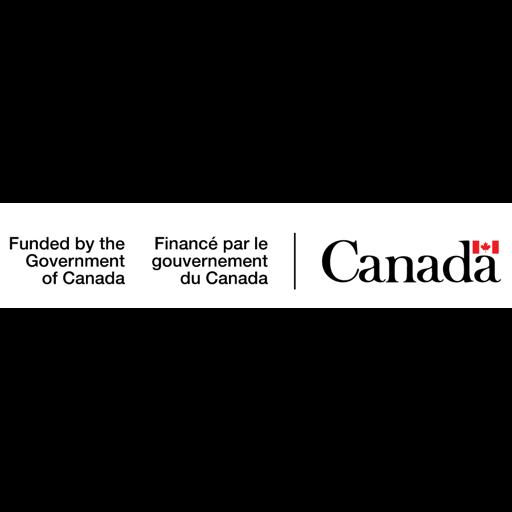Government of Canada: (0, 203, 512, 308)
